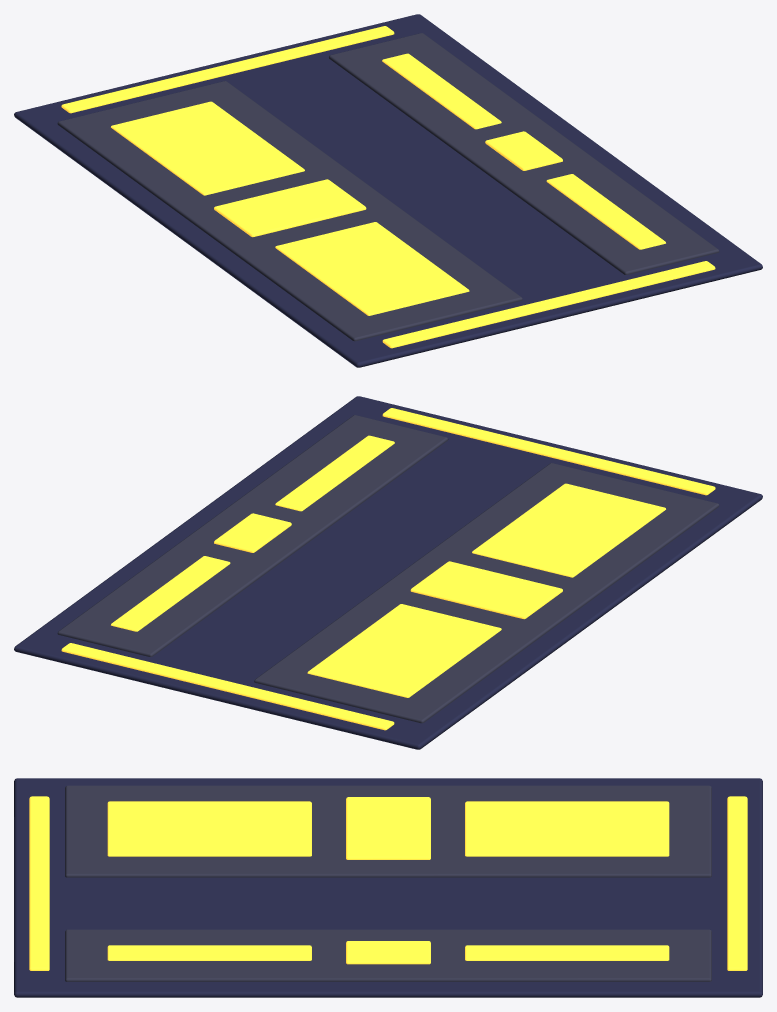
File: int.threshold.l0.8.glb
The picture shows the model from 3 angles, top to bottom: view 1: azimuth 30°, elevation 25°; view 2: azimuth 150°, elevation 25°; view 3: azimuth 270°, elevation 25°; orthographic projection. The views are drawn at different scales.
Visible parts, largest first — view 1: int.threshold.l0.8; view 2: int.threshold.l0.8; view 3: int.threshold.l0.8.
Part boxes in pixels (<box>): int.threshold.l0.8: <box>14,14,762,367</box>; int.threshold.l0.8: <box>14,396,762,749</box>; int.threshold.l0.8: <box>14,778,762,997</box>.
Bounding box in the file's own units: 0.6 × 0.016 × 0.88.
